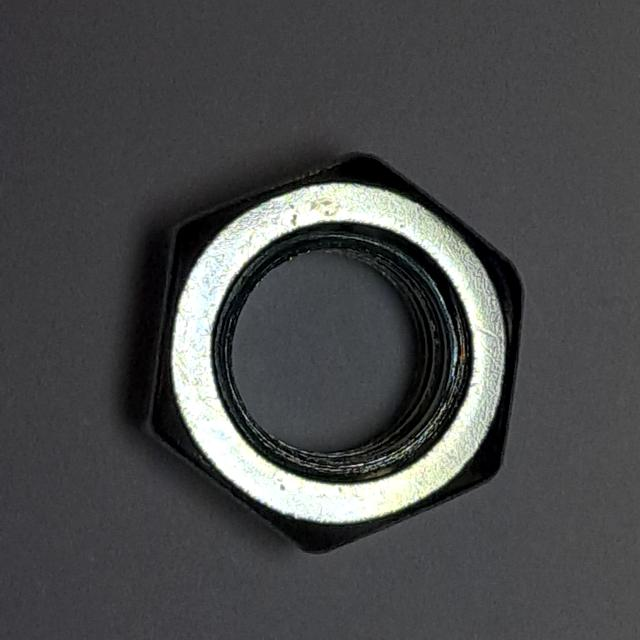Excellent: (117, 137, 536, 580)
